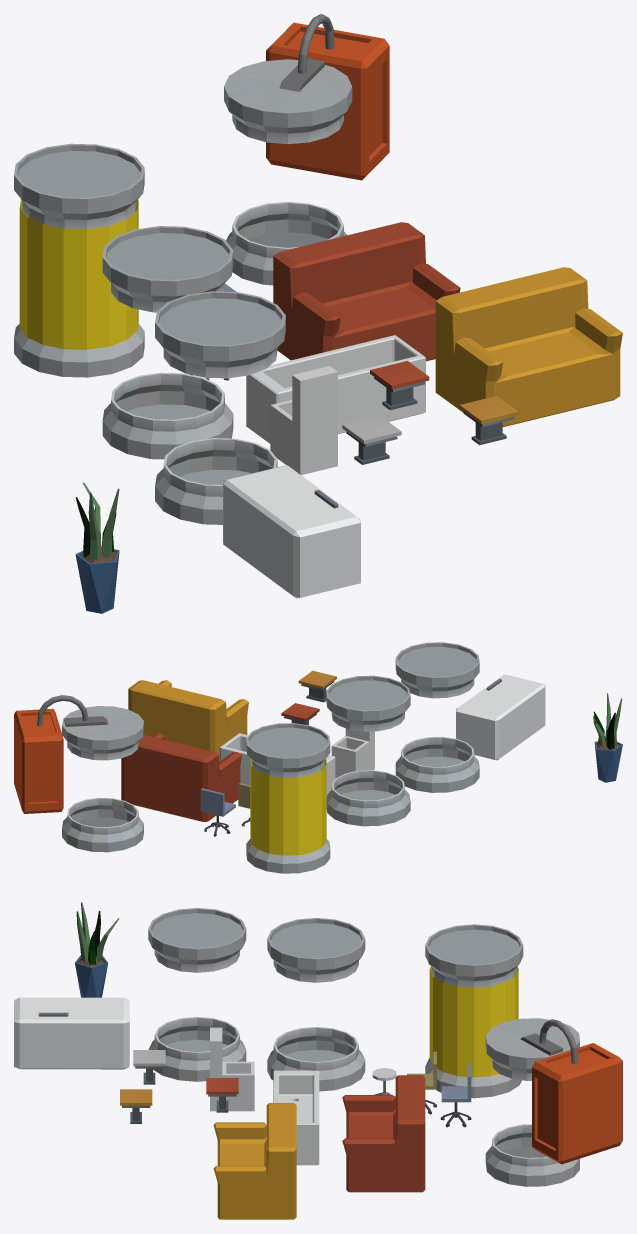
Rendered from different.fbx.
The picture shows the model from 3 angles, top to bottom: view 1: azimuth 30°, elevation 25°; view 2: azimuth 150°, elevation 25°; view 3: azimuth 270°, elevation 25°; orthographic projection. The views are drawn at different scales.
Visible parts, largest first — view 1: Column.030, Column.002, sofa1.002, sofa1.001, Column.001, Column.029, box.008, Bath.002, toilet.002, lid.008, flower.001, table.001 (+2 smaller); view 2: Column.030, Column.002, Column.001, Column.029, sofa1.001, sofa1.002, box.008, lid.008, toilet.002, flower.001, Bath.002, armchair1.001 (+3 smaller); view 3: Column.030, Column.002, Column.001, Column.029, sofa1.001, sofa1.002, box.008, lid.008, Bath.002, flower.001, toilet.002, armchair1.001 (+3 smaller).
Boxes of the visible parts, bbox=[...] form: Column.030: bbox=[224, 14, 389, 285]; Column.002: bbox=[14, 143, 144, 377]; sofa1.002: bbox=[435, 267, 622, 427]; sofa1.001: bbox=[273, 222, 460, 361]; Column.001: bbox=[102, 226, 233, 459]; Column.029: bbox=[155, 291, 285, 524]; box.008: bbox=[223, 482, 360, 598]; Bath.002: bbox=[246, 335, 425, 443]; toilet.002: bbox=[270, 366, 337, 475]; lid.008: bbox=[223, 465, 360, 537]; flower.001: bbox=[75, 482, 119, 613]; table.001: bbox=[342, 415, 401, 464]; Column.030: bbox=[14, 695, 143, 852]; Column.002: bbox=[246, 723, 330, 873]; Column.001: bbox=[326, 675, 410, 826]; Column.029: bbox=[395, 642, 479, 792]; sofa1.001: bbox=[121, 733, 241, 821]; sofa1.002: bbox=[128, 680, 248, 761]; box.008: bbox=[456, 686, 545, 760]; lid.008: bbox=[456, 674, 545, 720]; toilet.002: bbox=[331, 728, 374, 778]; flower.001: bbox=[593, 693, 622, 782]; Bath.002: bbox=[219, 733, 335, 795]; armchair1.001: bbox=[200, 788, 235, 836]; Column.030: bbox=[485, 1018, 622, 1186]; Column.002: bbox=[425, 924, 523, 1098]; Column.001: bbox=[267, 918, 365, 1091]; Column.029: bbox=[148, 908, 246, 1081]; sofa1.001: bbox=[342, 1075, 425, 1192]; sofa1.002: bbox=[213, 1103, 296, 1219]; box.008: bbox=[14, 1019, 129, 1069]; lid.008: bbox=[14, 997, 129, 1023]; Bath.002: bbox=[273, 1070, 319, 1165]; flower.001: bbox=[75, 902, 119, 997]; toilet.002: bbox=[210, 1027, 254, 1111]; armchair1.001: bbox=[440, 1064, 471, 1127].
Size of the model in its own units: 929 by 333 by 1055.
